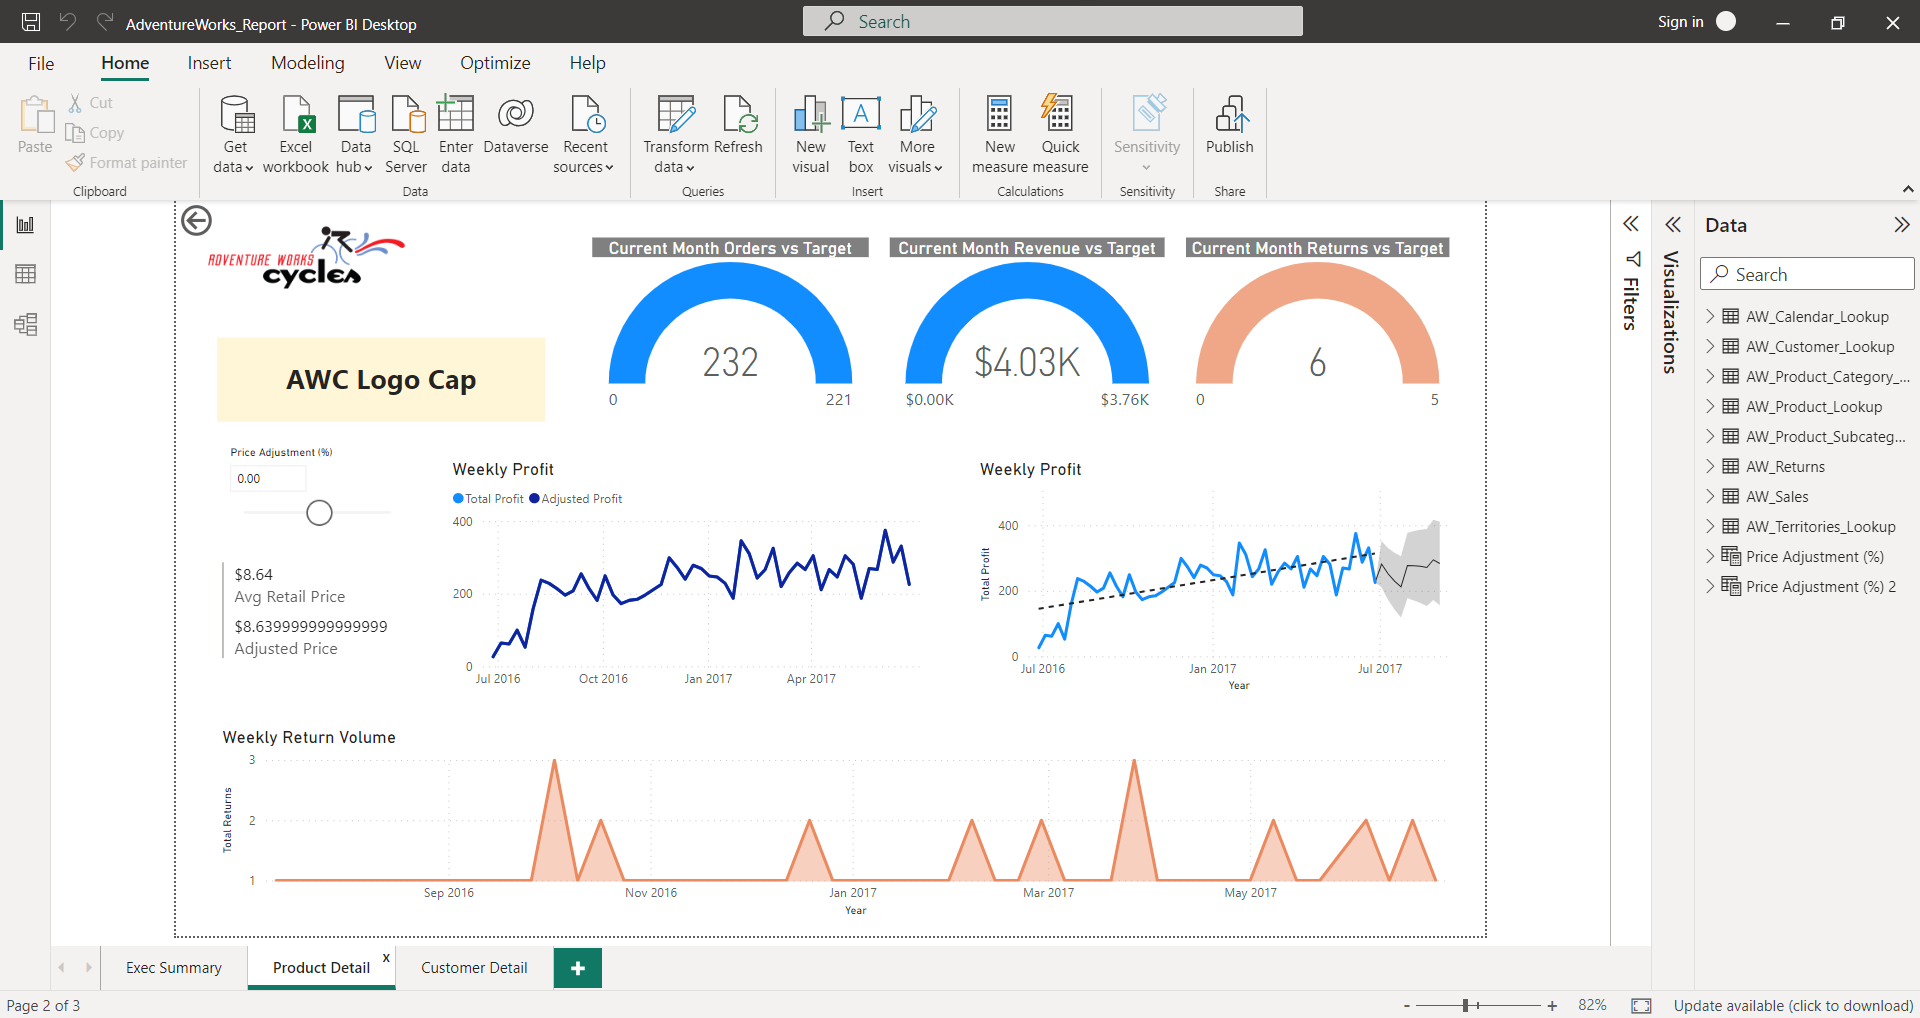

This screenshot's page, from the dashboard's own definition file:
{"tool":"powerbi","page":{"name":"Product Detail","canvas":[1280,720],"ordinal":1},"visuals":[{"type":"lineChart","title":"Weekly Profit","fields":{"Y":["AW_Sales.Total Profit"],"Category":["AW_Calendar_Lookup.Start of Week.Variation.Date Hierarchy.Year","AW_Calendar_Lookup.Start of Week.Variation.Date Hierarchy.Quarter","AW_Calendar_Lookup.Start of Week.Variation.Date Hierarchy.Month","AW_Calendar_Lookup.Start of Week.Variation.Date Hierarchy.Day"]},"box":[780.8,252.5,481.6,233.3],"z":0},{"type":"areaChart","title":"Weekly Return Volume","fields":{"Category":["AW_Calendar_Lookup.Start of Week.Variation.Date Hierarchy.Year","AW_Calendar_Lookup.Start of Week.Variation.Date Hierarchy.Quarter","AW_Calendar_Lookup.Start of Week.Variation.Date Hierarchy.Month","AW_Calendar_Lookup.Start of Week.Variation.Date Hierarchy.Day"],"Y":["AW_Returns.Total Returns"]},"box":[39.8,514.6,1222.6,190.7],"z":1000},{"type":"image","box":[27.4,6.9,204.5,97.4],"z":2000},{"type":"gauge","title":"Current Month Orders vs Target","fields":{"Y":["AW_Sales.Total Orders"],"MaxValue":["AW_Sales.Order Target"]},"box":[407.5,37,270.3,179.8],"z":3000},{"type":"gauge","title":"Current Month Returns vs Target","fields":{"Y":["AW_Returns.Total Returns"],"MaxValue":["AW_Returns.Prev Month Returns"]},"box":[988,37,258,179.8],"z":4000},{"type":"gauge","title":"Current Month Revenue vs Target","fields":{"Y":["AW_Sales.Total Revenue"],"MaxValue":["AW_Sales.Revenue Traget"]},"box":[698.5,37,269,179.8],"z":5000},{"type":"card","fields":{"Values":["Min(AW_Product_Lookup.ProductName)"]},"box":[39.8,134.5,321.1,82.3],"z":6000},{"type":"actionButton","box":[0,0,100,40],"z":7000},{"type":"slicer","fields":{"Values":["Price Adjustment (%) 2.Price Adjustment (%)"]},"box":[39.8,234.6,192.1,124.9],"z":8000},{"type":"multiRowCard","fields":{"Values":["AW_Product_Lookup.Avg Retail Price","AW_Product_Lookup.Adjusted Price"]},"box":[39.8,349.9,215.4,111.1],"z":9000},{"type":"lineChart","title":"Weekly Profit","fields":{"Y":["AW_Sales.Total Profit","AW_Sales.Adjusted Profit"],"Category":["AW_Calendar_Lookup.Start of Week.Variation.Date Hierarchy.Year","AW_Calendar_Lookup.Start of Week.Variation.Date Hierarchy.Quarter","AW_Calendar_Lookup.Start of Week.Variation.Date Hierarchy.Month","AW_Calendar_Lookup.Start of Week.Variation.Date Hierarchy.Day"]},"box":[264.8,252.5,481.6,233.3],"z":10000}]}

Visuals, with their boxes on the page's 1280x720 design canvas (x1, y1, x2, y2). These are canvas units, not pixel positions in the 1920x1018 screenshot, which may show the page scaled, cropped or inside an application window:
"Weekly Profit" lineChart: {"left": 781, "top": 252, "right": 1262, "bottom": 486}
"Weekly Return Volume" areaChart: {"left": 40, "top": 515, "right": 1262, "bottom": 705}
image: {"left": 27, "top": 7, "right": 232, "bottom": 104}
"Current Month Orders vs Target" gauge: {"left": 408, "top": 37, "right": 678, "bottom": 217}
"Current Month Returns vs Target" gauge: {"left": 988, "top": 37, "right": 1246, "bottom": 217}
"Current Month Revenue vs Target" gauge: {"left": 698, "top": 37, "right": 968, "bottom": 217}
card - Min(AW_Product_Lookup.ProductName): {"left": 40, "top": 134, "right": 361, "bottom": 217}
actionButton: {"left": 0, "top": 0, "right": 100, "bottom": 40}
slicer - Price Adjustment (%) 2.Price Adjustment (%): {"left": 40, "top": 235, "right": 232, "bottom": 360}
multiRowCard - AW_Product_Lookup.Avg Retail Price x AW_Product_Lookup.Adjusted Price: {"left": 40, "top": 350, "right": 255, "bottom": 461}
"Weekly Profit" lineChart: {"left": 265, "top": 252, "right": 746, "bottom": 486}
